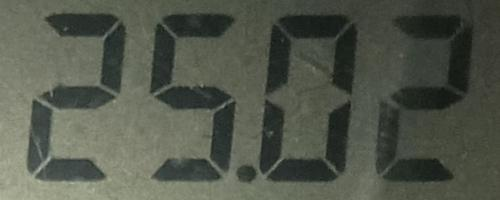.: (235, 158, 257, 187)
